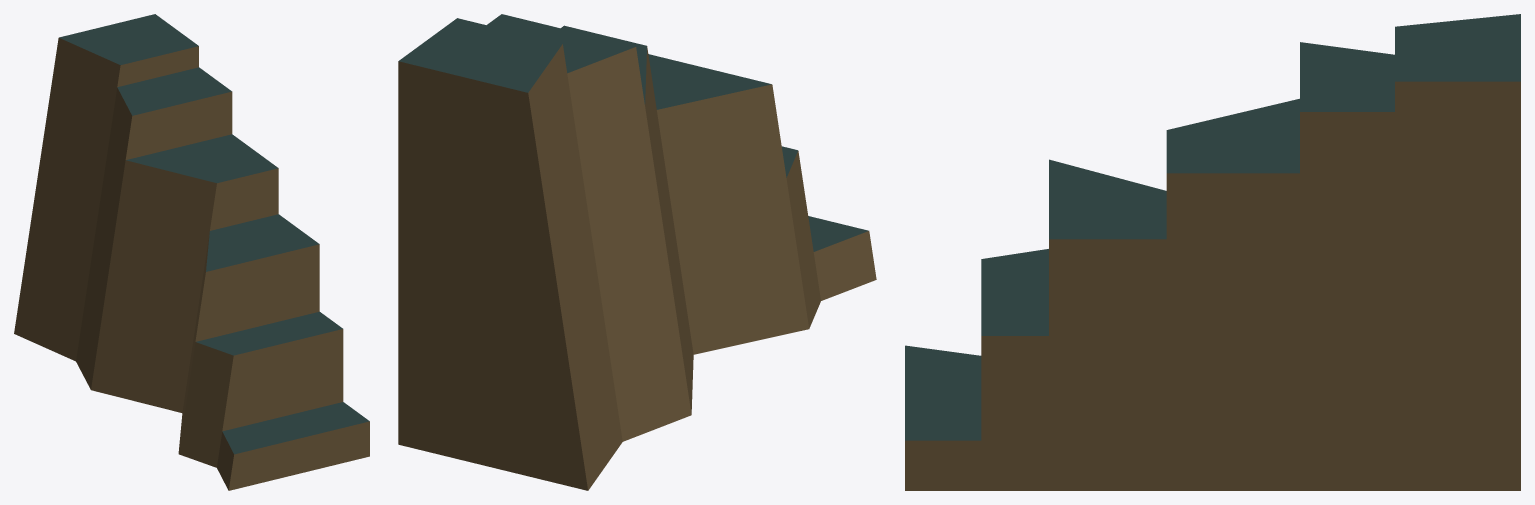
Rendered from Brown_Cliff_End_Green_Top_01.obj.
3 renders of one model, left to right at view 1: azimuth 30°, elevation 25°; view 2: azimuth 150°, elevation 25°; view 3: azimuth 270°, elevation 25°, orthographic. The views are drawn at different scales.
Visible parts, largest first — view 1: Mesh1_Brown_Cliff_End_Green_Top_Model; view 2: Mesh1_Brown_Cliff_End_Green_Top_Model; view 3: Mesh1_Brown_Cliff_End_Green_Top_Model.
Part boxes in pixels (x1,y1,x2,y2): Mesh1_Brown_Cliff_End_Green_Top_Model: (14, 14, 369, 490); Mesh1_Brown_Cliff_End_Green_Top_Model: (398, 14, 876, 490); Mesh1_Brown_Cliff_End_Green_Top_Model: (905, 14, 1520, 490).
Bounding box in the file's own units: 1.14 × 2.2 × 3.
